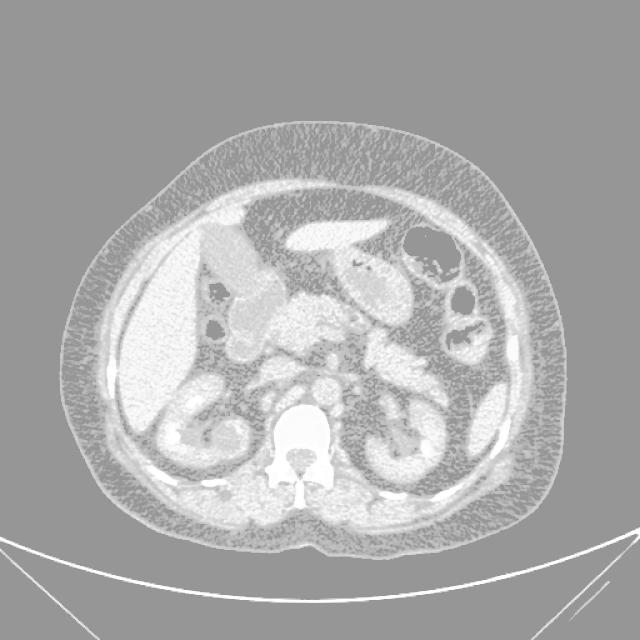TUMOR: (136, 218, 458, 458)
